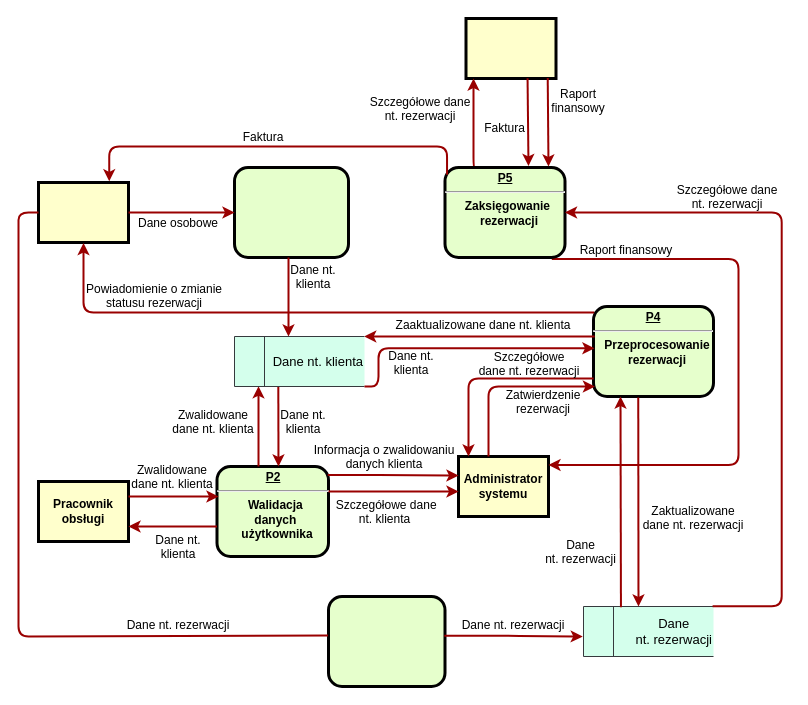
Image size: 808x705. Some labels were removed from this diagram. The centre of each missing label's shape, as x and y in pixels:
"Klient" belongs at point 83,212.
"Księgowy" belongs at point 510,48.
"P1 Rejestracja w systemie" belongs at point 291,212.
"P3 Stworzenie rezerwacji" belongs at point 386,641.
